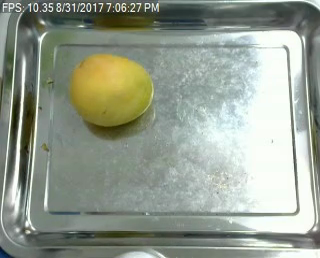Mango: (68, 55, 151, 125)
